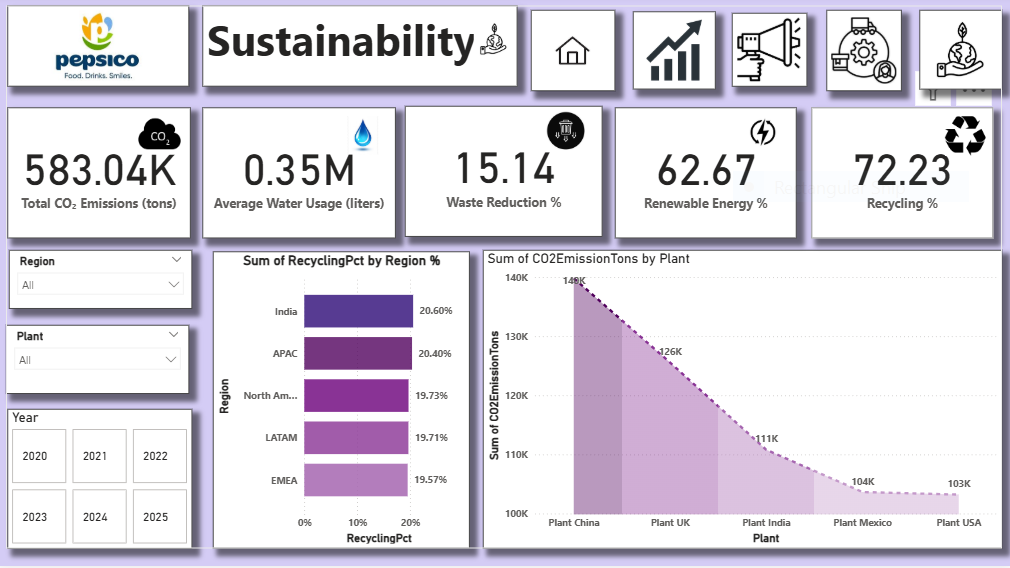

What the dashboard file says about the page in this screenshot:
{"tool":"powerbi","page":{"name":"Sustainability","canvas":[1280,720],"ordinal":4},"visuals":[{"type":"image","box":[13.2,13.2,228.7,102],"z":0,"group":"g12"},{"type":"group","id":"g1","title":"Group 5","box":[514,139.8,248.9,164.4],"z":0,"group":"g6"},{"type":"textbox","box":[258.9,13.2,396.9,102],"z":1000,"group":"g8"},{"type":"image","box":[664.1,142.6,106.9,58.6],"z":1000,"group":"g6"},{"type":"slicer","fields":{"Values":["SustainabilityData.Region"]},"box":[15.1,321.2,230.6,73.7],"z":1000,"group":"g12"},{"type":"image","box":[672.7,18.9,105.8,102],"z":2000,"group":"g7"},{"type":"slicer","fields":{"Values":["SustainabilityData.Plant"]},"box":[11.3,415.7,230.6,86.9],"z":2000,"group":"g12"},{"type":"image","box":[801.2,20.8,103.9,98.3],"z":3000,"group":"g7"},{"type":"advancedSlicerVisual","fields":{"Values":["SustainabilityData.Date.Variation.Date Hierarchy.Year"]},"box":[13.2,521.6,232.4,175.7],"z":3000,"group":"g12"},{"type":"image","box":[925.9,22.7,94.5,92.6],"z":4000,"group":"g7"},{"type":"lineChart","fields":{"Y":["Sum(SustainabilityData.CO2EmissionTons)"],"Category":["SustainabilityData.Plant"]},"box":[612.2,321.2,653.9,376.1],"z":4000,"group":"g12"},{"type":"image","box":[1045,18.9,94.5,102],"z":5000,"group":"g7"},{"type":"barChart","title":"Sum of RecyclingPct by Region %","fields":{"Category":["SustainabilityData.Region"],"Y":["Sum(SustainabilityData.RecyclingPct)"]},"box":[272.1,323.1,323.2,374.2],"z":5000,"group":"g12"},{"type":"image","box":[1162.2,18.9,103.9,100.2],"z":6000,"group":"g7"},{"type":"group","id":"g2","title":"Group 1","box":[13.2,141.7,232.4,164.4],"z":6000,"group":"g12"},{"type":"image","box":[595.5,21.9,59.8,65.7],"z":7000,"group":"g8"},{"type":"group","id":"g3","title":"Group 3","box":[1026.1,141.7,239.3,164.4],"z":7000,"group":"g12"},{"type":"card","fields":{"Values":["Sum(SustainabilityData.CO2EmissionTons)"]},"box":[13.2,141.7,230.6,164.4],"z":8000,"group":"g2"},{"type":"group","id":"g4","title":"Group 4","box":[778.5,141.7,231.3,164.4],"z":8000,"group":"g12"},{"type":"group","id":"g5","title":"Group 6","box":[258.9,141.7,255.1,164.4],"z":9000,"group":"g12"},{"type":"card","fields":{"Values":["Avg(SustainabilityData.WaterUsageLiters)"]},"box":[258.9,141.7,243.4,164.4],"z":9000,"group":"g9"},{"type":"group","id":"g6","title":"Group 7","box":[514,139.8,257,164.4],"z":10000,"group":"g12"},{"type":"card","fields":{"Values":["Avg(SustainabilityData.WasteReductionPct)"]},"box":[514,139.8,248.9,164.4],"z":10000,"group":"g1"},{"type":"group","id":"g7","title":"Group 10","box":[672.7,18.9,593.4,102],"z":11000,"group":"g12"},{"type":"card","fields":{"Values":["Avg(SustainabilityData.RenewableEnergyPct)"]},"box":[778.5,141.7,228.7,164.4],"z":11000,"group":"g10"},{"type":"group","id":"g8","title":"Group 11","box":[258.9,13.2,396.9,102],"z":12000,"group":"g12"},{"type":"card","fields":{"Values":["Avg(SustainabilityData.RecyclingPct)"]},"box":[1026.1,141.7,228.7,164.4],"z":12000,"group":"g11"},{"type":"group","id":"g9","title":"Group 2","box":[258.9,141.7,243.4,164.4],"z":14000,"group":"g5"},{"type":"image","box":[164.4,141.7,81.3,64.3],"z":17001,"group":"g2"},{"type":"image","box":[408.3,147.9,105.7,58.6],"z":17002,"group":"g5"},{"type":"group","id":"g10","title":"Group 8","box":[778.5,141.7,231.3,164.4],"z":17006,"group":"g4"},{"type":"group","id":"g11","title":"Group 9","box":[1026.1,141.7,239.3,164.4],"z":17006,"group":"g3"},{"type":"image","box":[921,144.1,88.8,58.6],"z":17006,"group":"g10"},{"type":"image","box":[1172.8,147.9,92.6,60.5],"z":17006,"group":"g11"},{"type":"group","id":"g12","title":"Group 12","box":[11.3,13.2,1254.8,684.1],"z":17008}]}

Visuals, with their boxes in screenshot pixels (x1, y1, x2, y2), scaled from the page's 1280x720 canvas onto the 1010x568 screenshot:
image: bbox=(10, 10, 191, 91)
"Group 5" group: bbox=(406, 110, 602, 240)
textbox: bbox=(204, 10, 517, 91)
image: bbox=(524, 112, 608, 159)
slicer - SustainabilityData.Region: bbox=(12, 253, 194, 312)
image: bbox=(531, 15, 614, 95)
slicer - SustainabilityData.Plant: bbox=(9, 328, 191, 396)
image: bbox=(632, 16, 714, 94)
advancedSlicerVisual - SustainabilityData.Date.Variation.Date Hierarchy.Year: bbox=(10, 411, 194, 550)
image: bbox=(731, 18, 805, 91)
lineChart - Sum(SustainabilityData.CO2EmissionTons) x SustainabilityData.Plant: bbox=(483, 253, 999, 550)
image: bbox=(825, 15, 899, 95)
"Sum of RecyclingPct by Region %" barChart: bbox=(215, 255, 470, 550)
image: bbox=(917, 15, 999, 94)
"Group 1" group: bbox=(10, 112, 194, 241)
image: bbox=(470, 17, 517, 69)
"Group 3" group: bbox=(810, 112, 998, 241)
card - Sum(SustainabilityData.CO2EmissionTons): bbox=(10, 112, 192, 241)
"Group 4" group: bbox=(614, 112, 797, 241)
"Group 6" group: bbox=(204, 112, 406, 241)
card - Avg(SustainabilityData.WaterUsageLiters): bbox=(204, 112, 396, 241)
"Group 7" group: bbox=(406, 110, 608, 240)
card - Avg(SustainabilityData.WasteReductionPct): bbox=(406, 110, 602, 240)
"Group 10" group: bbox=(531, 15, 999, 95)
card - Avg(SustainabilityData.RenewableEnergyPct): bbox=(614, 112, 795, 241)
"Group 11" group: bbox=(204, 10, 517, 91)
card - Avg(SustainabilityData.RecyclingPct): bbox=(810, 112, 990, 241)
"Group 2" group: bbox=(204, 112, 396, 241)
image: bbox=(130, 112, 194, 163)
image: bbox=(322, 117, 406, 163)
"Group 8" group: bbox=(614, 112, 797, 241)
"Group 9" group: bbox=(810, 112, 998, 241)
image: bbox=(727, 114, 797, 160)
image: bbox=(925, 117, 998, 164)
"Group 12" group: bbox=(9, 10, 999, 550)
